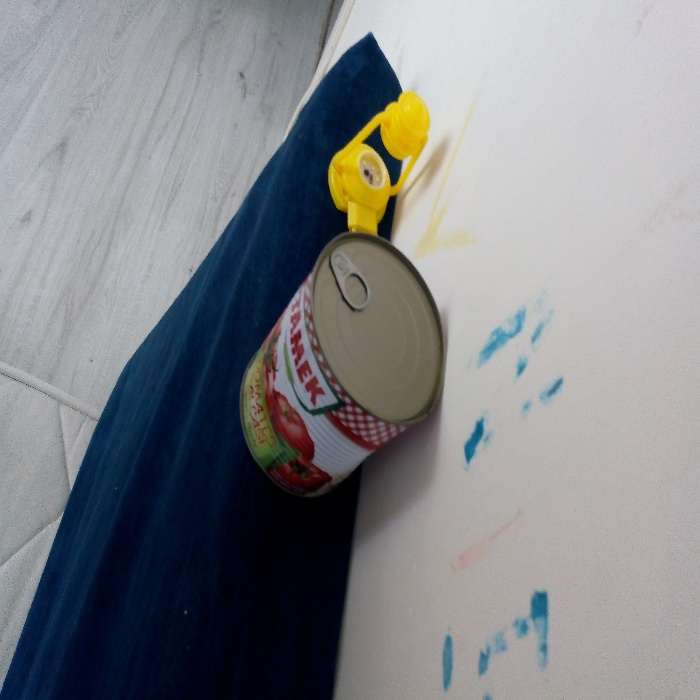salca: (237, 211, 449, 492)
